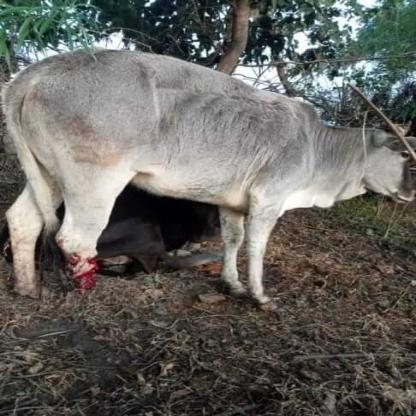cow: (4, 26, 416, 333)
injured: (38, 234, 142, 302)
